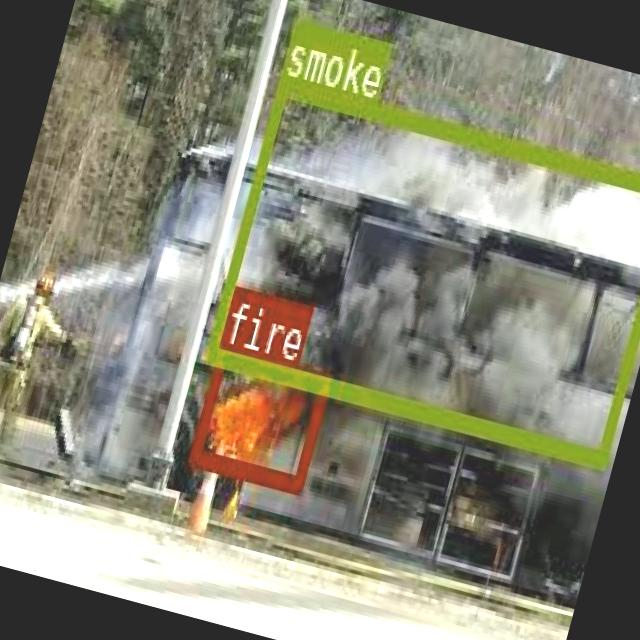fire: (188, 342, 330, 488)
smoke: (203, 75, 640, 466)
